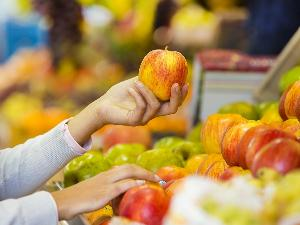apple: (93, 54, 299, 222)
